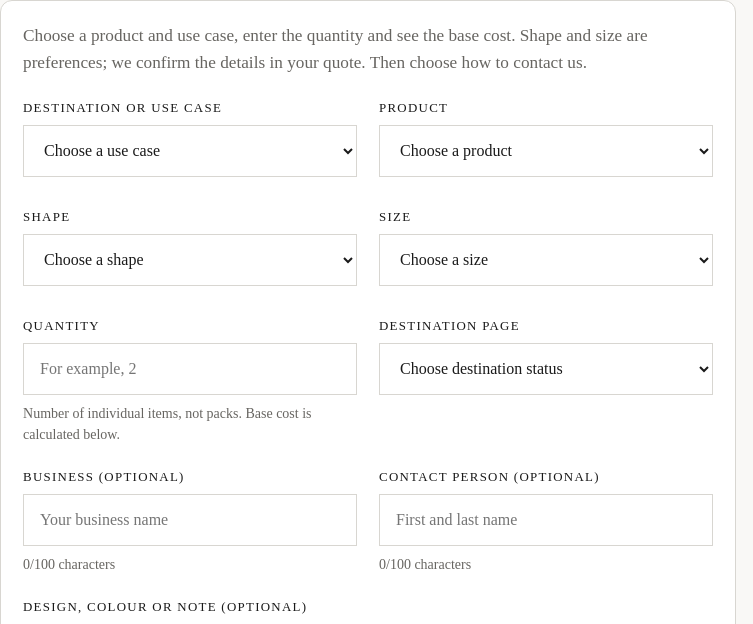
Test case: keeps the chosen destination when adopting a neutral sticker
Select "Digital menu" in the dropdown named "destination" at (190, 151), box [23,125,357,177]
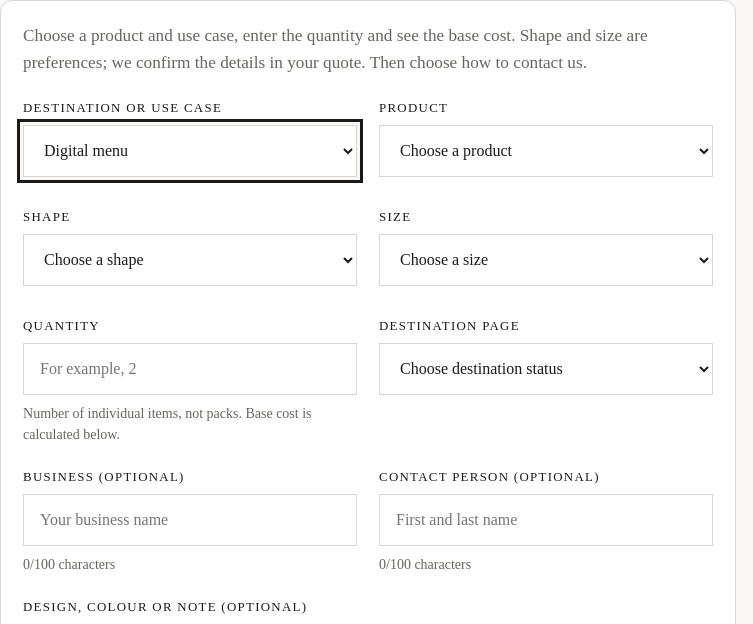
Select "NFC sticker · 1 item CHF 15.–" in the dropdown named "product" at (546, 151), box [379,125,713,177]
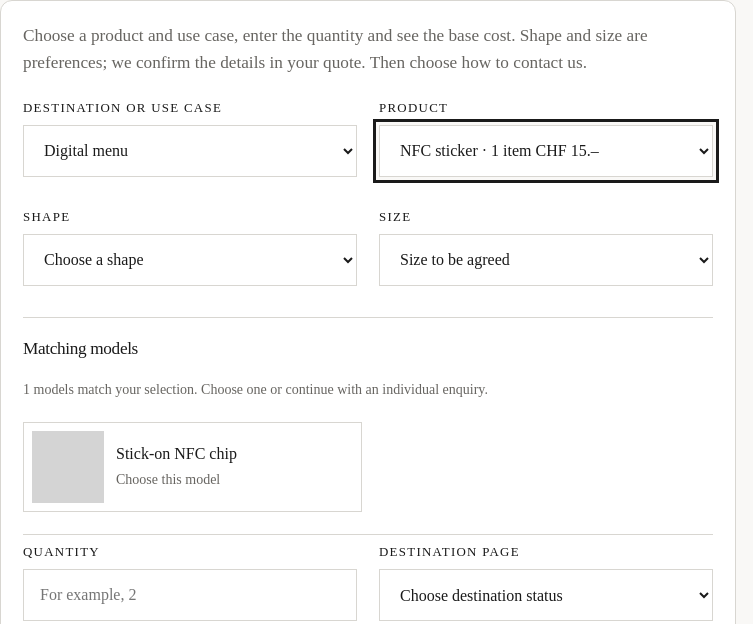
Click the button at (68, 467), box [23,422,362,512]
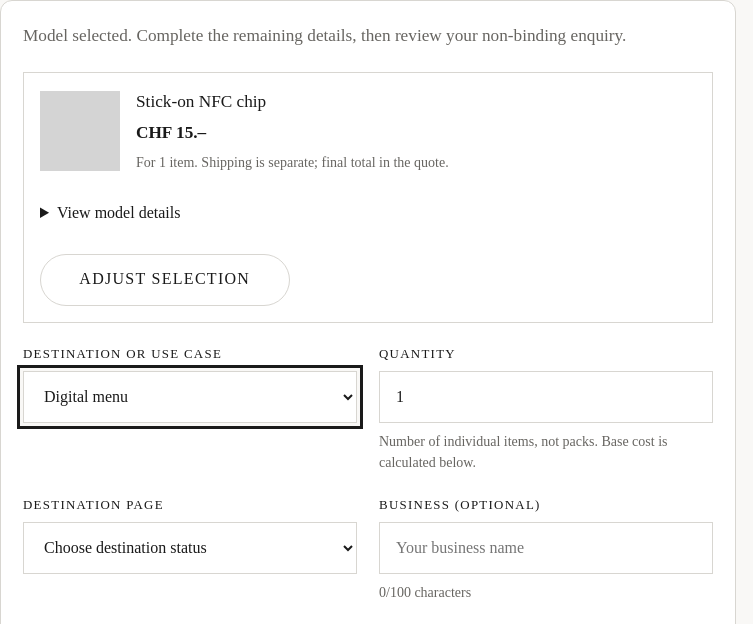
Expected: the element with test id "inquiry-model" shows "Stick-on NFC chip", [136,92,266,111]
